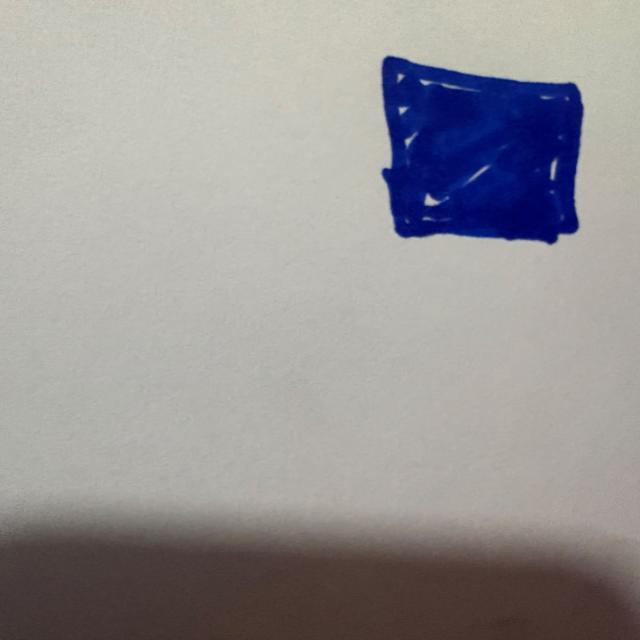Square: (381, 56, 583, 245)
